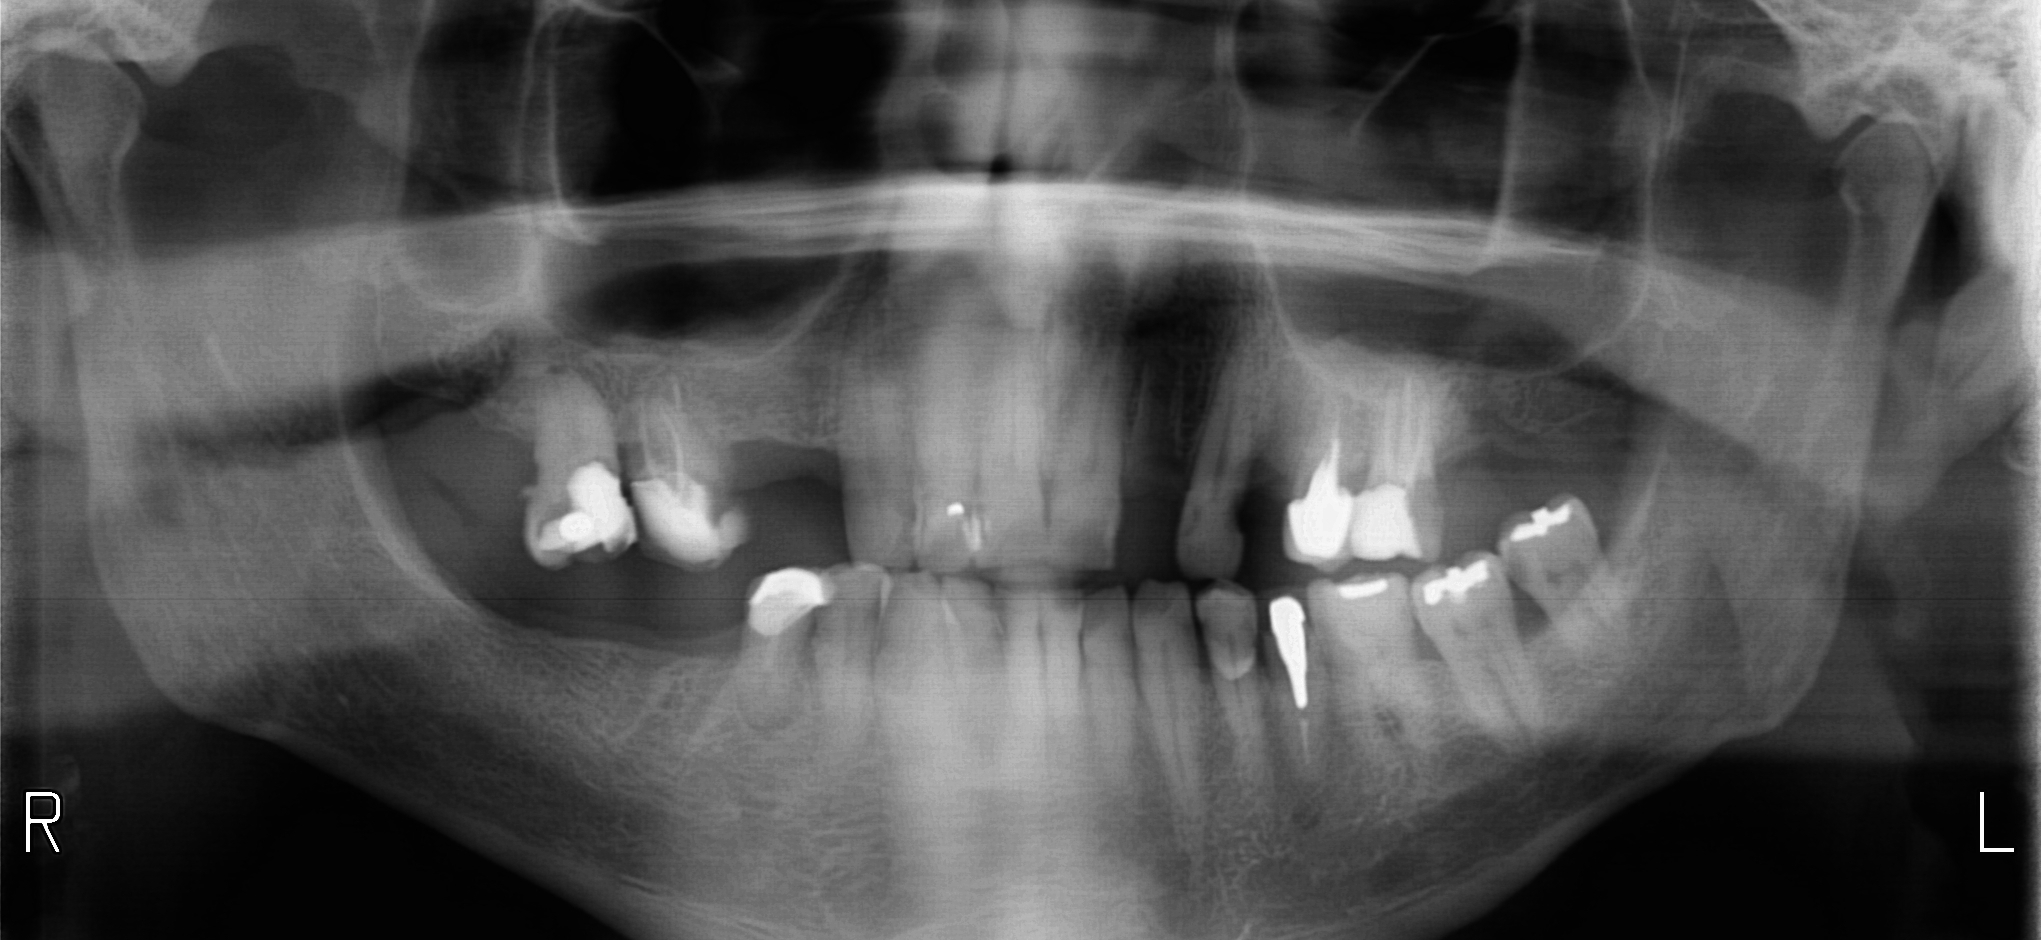cavity: (1513, 555, 1526, 583), (1231, 496, 1240, 534), (1183, 510, 1194, 534), (1181, 617, 1188, 631), (1253, 641, 1256, 643)
